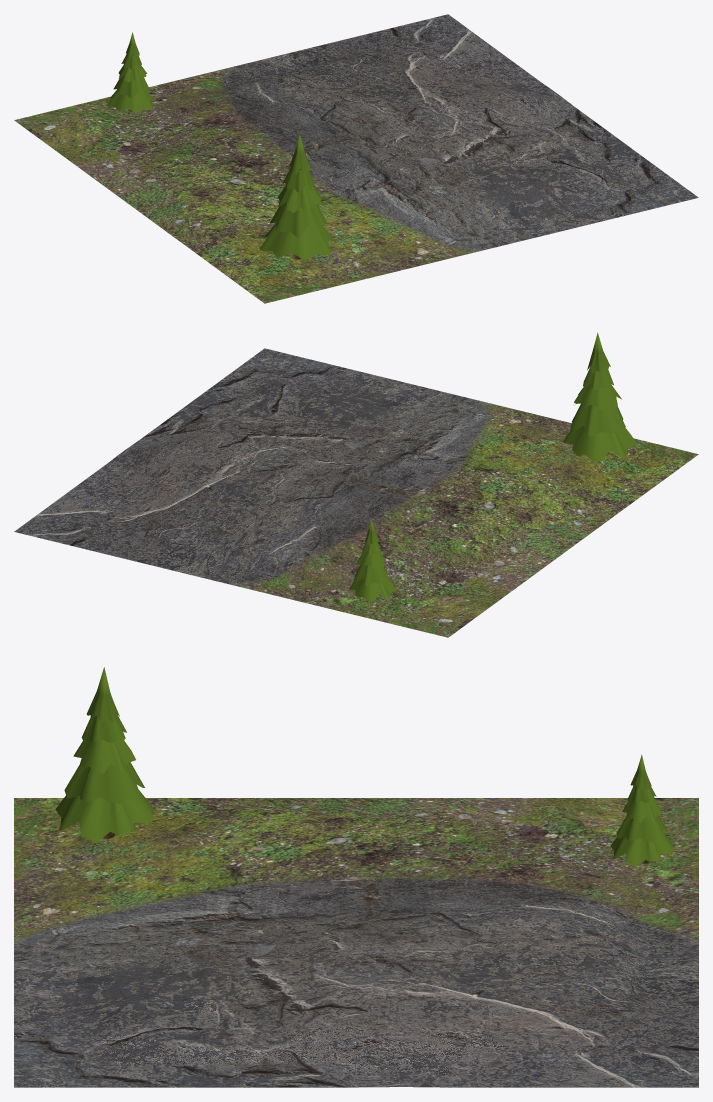
The model's file is FMFM.fbx.
3 views of the same model, one above another, from view 1: azimuth 30°, elevation 25°; view 2: azimuth 150°, elevation 25°; view 3: azimuth 270°, elevation 25° (orthographic). The views are drawn at different scales.
Visible parts, largest first — view 1: Plane, Resource_PineTree_Group.031, Resource_PineTree_Group.032, Resource_PineTree_Group.033, Resource_PineTree_Group.005, Resource_PineTree_Group.004, Resource_PineTree_Group.034, Resource_PineTree_Group.035; view 2: Plane, Resource_PineTree_Group.031, Resource_PineTree_Group.032, Resource_PineTree_Group.033, Resource_PineTree_Group.005, Resource_PineTree_Group.004, Resource_PineTree_Group.035; view 3: Plane, Resource_PineTree_Group.031, Resource_PineTree_Group.032, Resource_PineTree_Group.033, Resource_PineTree_Group.005, Resource_PineTree_Group.004, Resource_PineTree_Group.034, Resource_PineTree_Group.035.
Boxes of the visible parts, box(x1,y1,x2,y2) form: Plane: box(14, 14, 698, 303); Resource_PineTree_Group.031: box(259, 224, 336, 260); Resource_PineTree_Group.032: box(270, 202, 326, 237); Resource_PineTree_Group.033: box(278, 185, 322, 212); Resource_PineTree_Group.005: box(107, 90, 155, 113); Resource_PineTree_Group.004: box(113, 76, 149, 98); Resource_PineTree_Group.034: box(282, 169, 314, 192); Resource_PineTree_Group.035: box(289, 133, 310, 174); Plane: box(14, 348, 698, 637); Resource_PineTree_Group.031: box(563, 425, 636, 461); Resource_PineTree_Group.032: box(570, 403, 625, 436); Resource_PineTree_Group.033: box(574, 383, 621, 409); Resource_PineTree_Group.005: box(349, 578, 396, 601); Resource_PineTree_Group.004: box(354, 565, 389, 585); Resource_PineTree_Group.035: box(587, 332, 610, 373); Plane: box(14, 798, 698, 1087); Resource_PineTree_Group.031: box(55, 790, 155, 842); Resource_PineTree_Group.032: box(64, 762, 144, 803); Resource_PineTree_Group.033: box(73, 739, 135, 773); Resource_PineTree_Group.005: box(610, 833, 674, 866); Resource_PineTree_Group.004: box(616, 815, 667, 841); Resource_PineTree_Group.034: box(81, 712, 126, 742); Resource_PineTree_Group.035: box(86, 667, 119, 722).
Size of the model in its own units: 500 by 145 by 500.
